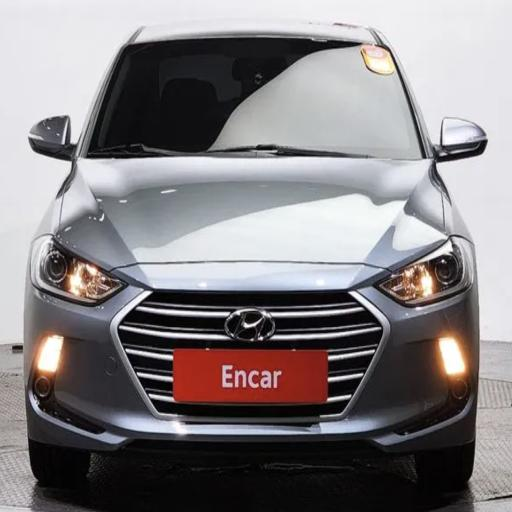normal: (10, 18, 489, 483)
